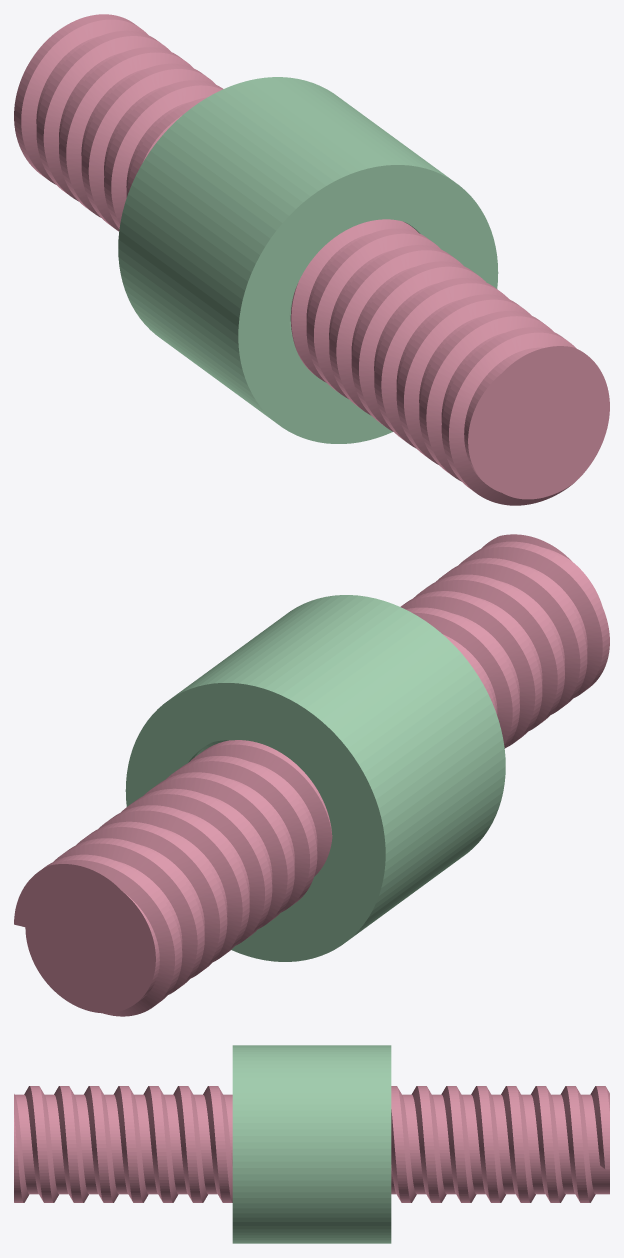
The model's file is lead_screw_demo.glb.
3 renders of one model, top to bottom at view 1: azimuth 30°, elevation 25°; view 2: azimuth 150°, elevation 25°; view 3: azimuth 270°, elevation 25°, orthographic. The views are drawn at different scales.
Parts seen in each view (by area): view 1: screw, nut; view 2: screw, nut; view 3: screw, nut.
Boxes of the visible parts, x1,y1,x2,y2 form: screw: (14, 14, 609, 505); nut: (118, 77, 498, 443); screw: (14, 534, 609, 1016); nut: (125, 595, 505, 961); screw: (14, 1086, 609, 1202); nut: (232, 1045, 391, 1243).
Size of the model in its own units: 20 by 20 by 60.
